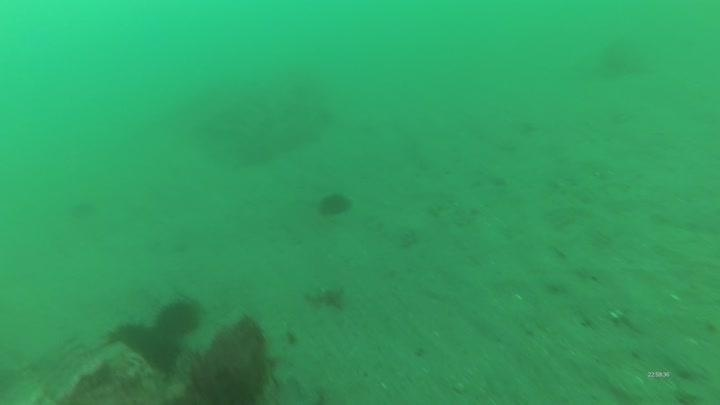echinus: (152, 294, 204, 339), (106, 318, 157, 357), (140, 334, 178, 376), (315, 189, 354, 221)
holothurian: (303, 281, 348, 312)
